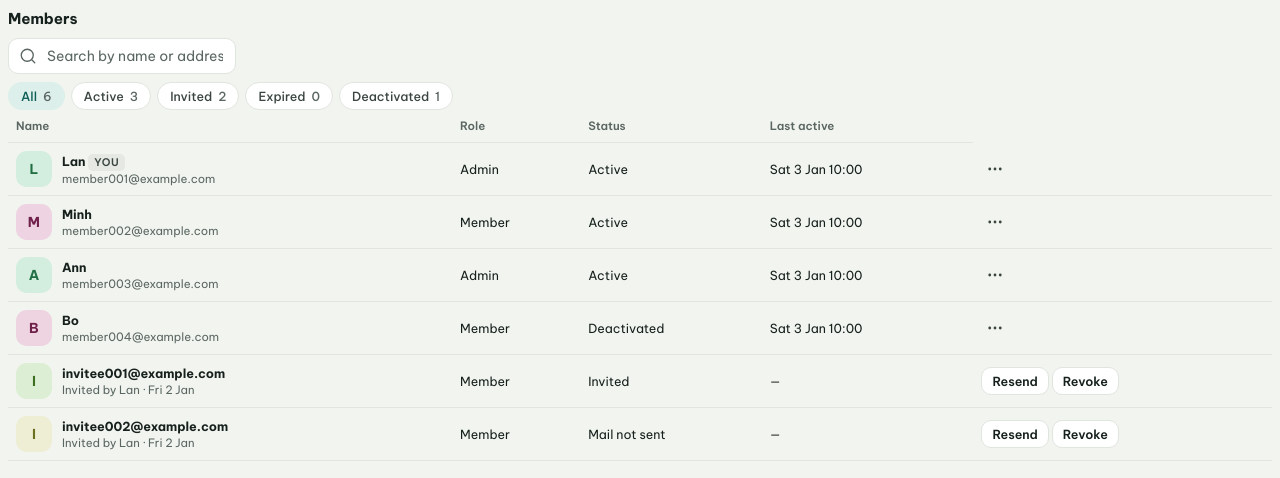
Test case: the menu of an account row (R15, R16, R17) › a deactivated person has Reactivate and no Change role
The width and height of the screenshot is (1280, 478).
Click the button named "Actions for Bo": coordinates (995, 328) [981, 314, 1009, 342]
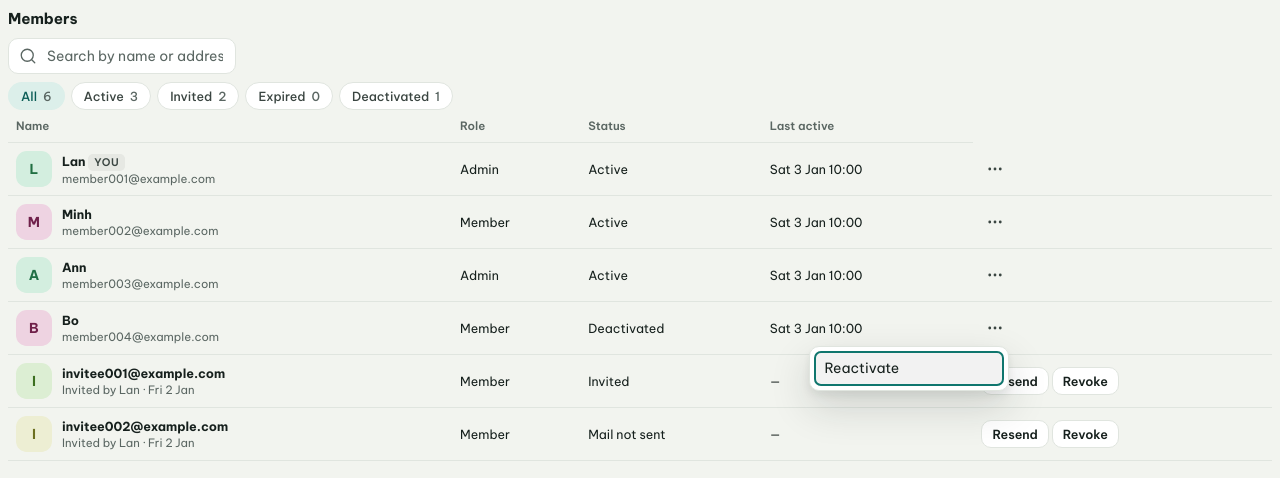
Check: the number of menu items is 1, box [814, 351, 1004, 386]
